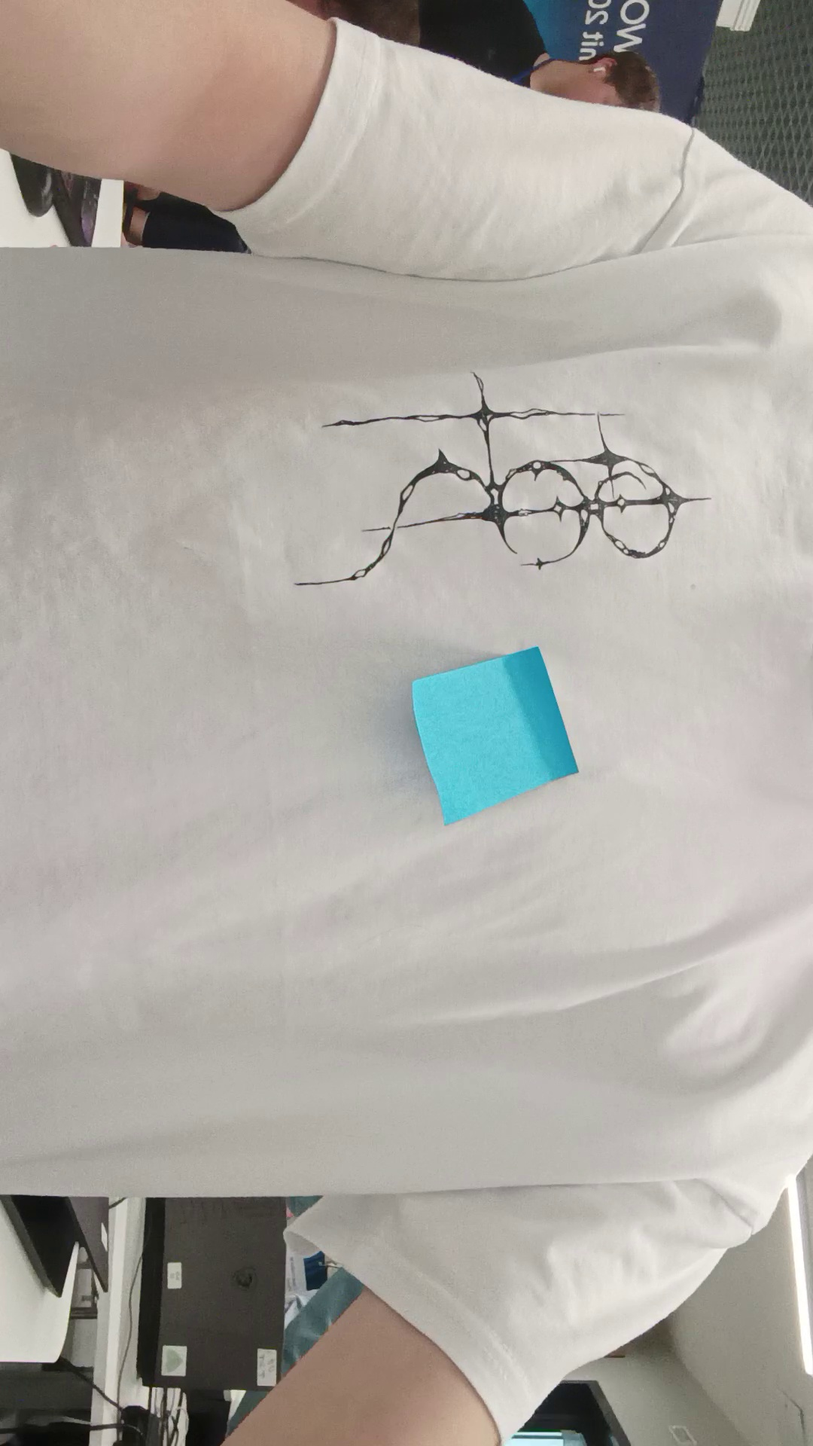marker: (501, 647, 577, 782), (524, 0, 551, 41), (443, 793, 474, 820), (451, 779, 458, 795), (463, 790, 470, 795)
